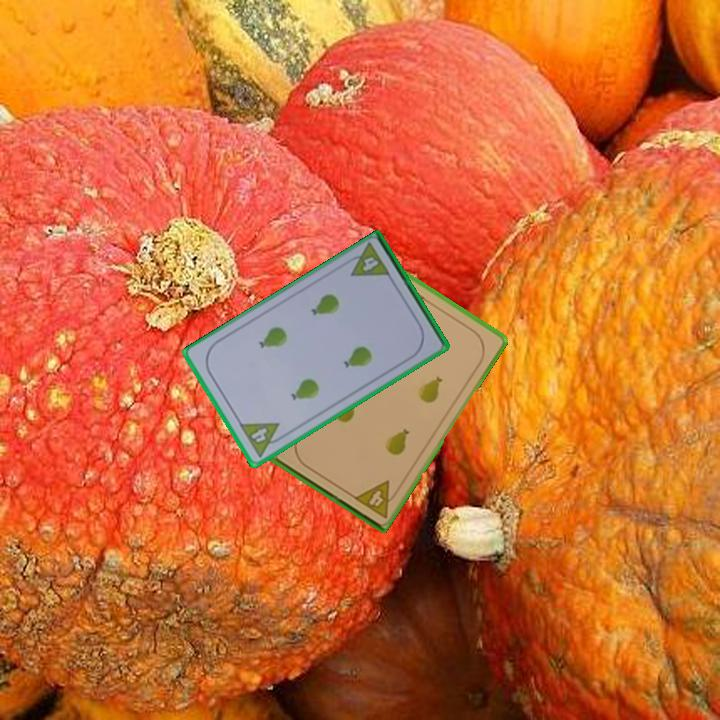4p: (350, 477, 402, 521), (236, 419, 289, 460), (341, 240, 393, 280)
